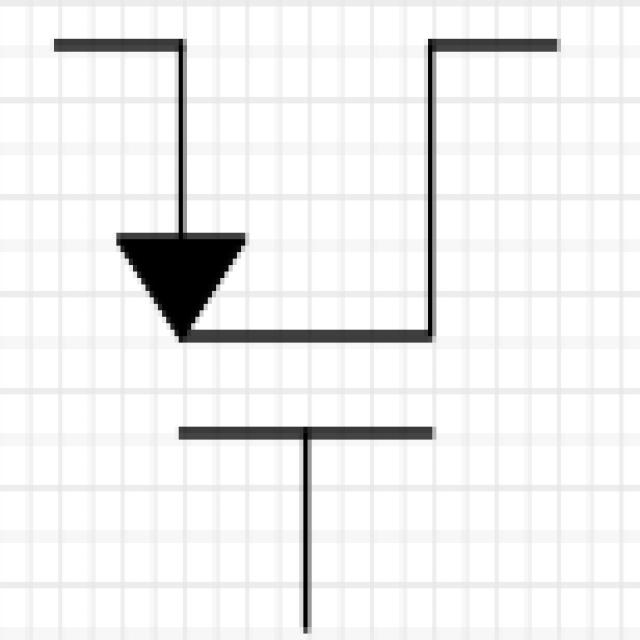pmos: (46, 0, 558, 615)
